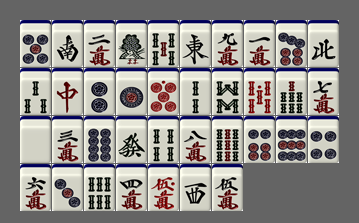0m: (148, 164, 179, 211)
0p: (148, 68, 179, 115)
0s: (244, 68, 275, 115)
1m: (244, 20, 275, 67)
1p: (116, 68, 147, 115)
1s: (116, 20, 147, 67)
1z: (180, 20, 211, 67)
2m: (84, 20, 115, 67)
2p: (84, 68, 115, 115)
2s: (180, 68, 211, 115)
2z: (52, 20, 83, 67)
3m: (52, 116, 83, 163)
3p: (52, 164, 83, 211)
3s: (20, 68, 51, 115)
3z: (180, 164, 211, 211)
4m: (116, 164, 147, 211)
4p: (308, 116, 339, 163)
4s: (148, 116, 179, 163)
4z: (308, 20, 339, 67)
5m: (212, 164, 243, 211)
5p: (20, 20, 51, 67)
5s: (148, 20, 179, 67)
5z: (20, 116, 51, 163)
6m: (20, 164, 51, 211)
6p: (244, 116, 275, 163)
6s: (84, 164, 115, 211)
6z: (116, 116, 147, 163)
7m: (308, 68, 339, 115)
7p: (276, 20, 307, 67)
7s: (276, 68, 307, 115)
7z: (52, 68, 83, 115)
8m: (180, 116, 211, 163)
8p: (84, 116, 115, 163)
8s: (212, 68, 243, 115)
9m: (212, 20, 243, 67)
9p: (276, 116, 307, 163)
9s: (212, 116, 243, 163)
